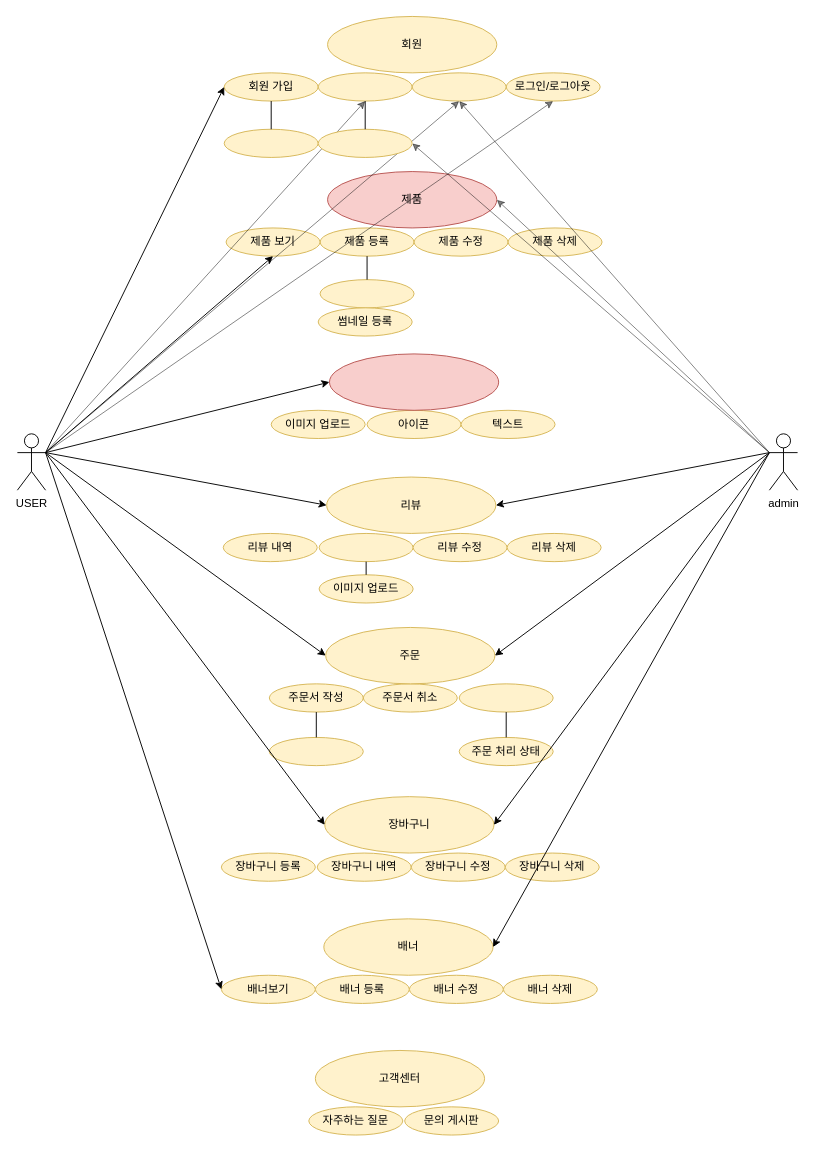
Some shapes in this 815 by 1152 pixel diagram are drawn without their labels. The centre of each missing label's shape, as x and y in pixels:
"결제" belongs at point 315,751.
"리뷰 등록" belongs at point 365,547.
"비밀번호 변경" belongs at point 364,142.
"이미지 등록" belongs at point 366,293.
"제품 커스터마이징" belongs at point 414,381.
"주문 내역 확인" belongs at point 505,697.
"주소 찾기" belongs at point 270,142.
"회원 탈퇴" belongs at point 458,86.
"회원정보 수정" belongs at point 364,86.
